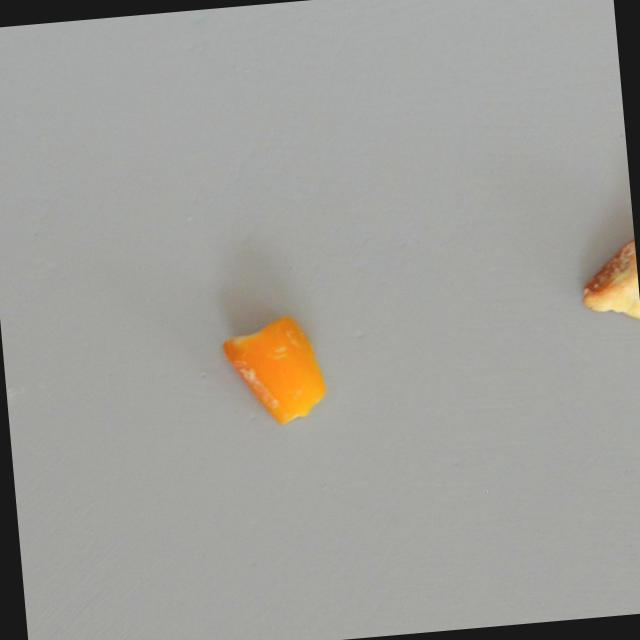dañado: (214, 307, 333, 432), (573, 224, 640, 335)
